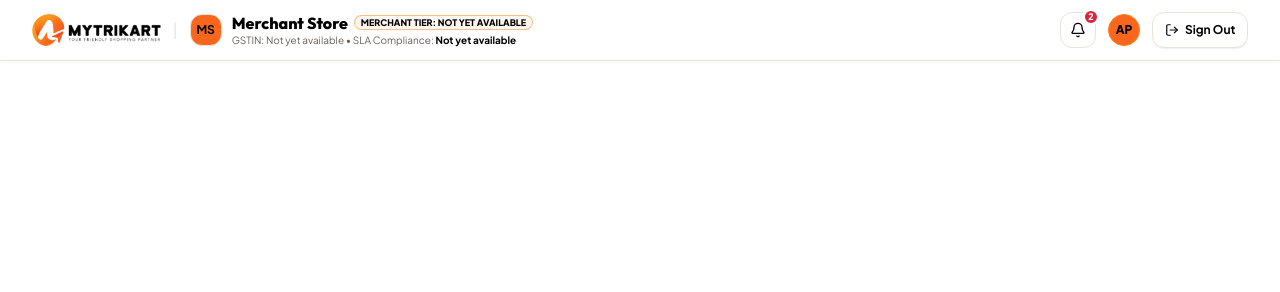
SellerDashboardTopBar Alerts Wiring Suite › 4. renders badge count 2 when both low stock and new orders exist, excluding Weekly Payout block
This screenshot has width=1280, height=292.
Check: the text "2" is shown, box [1082,9,1098,25]
Check: the text with class "animate-badge-pop" reads "2", box [1088,11,1093,22]
// Open dropdown
Click the button named "open notifications" at (1078, 30), box [1060,12,1096,48]
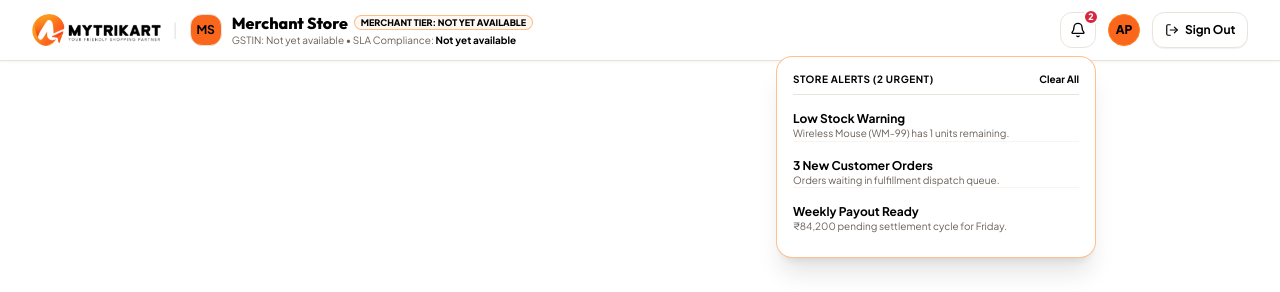
Check: the text "Store Alerts (2 Urgent)" is shown, box [792,73,933,86]
Check: the heading "Low Stock Warning" is shown, box [792,111,905,126]
Check: the heading "3 New Customer Orders" is shown, box [792,158,932,173]
